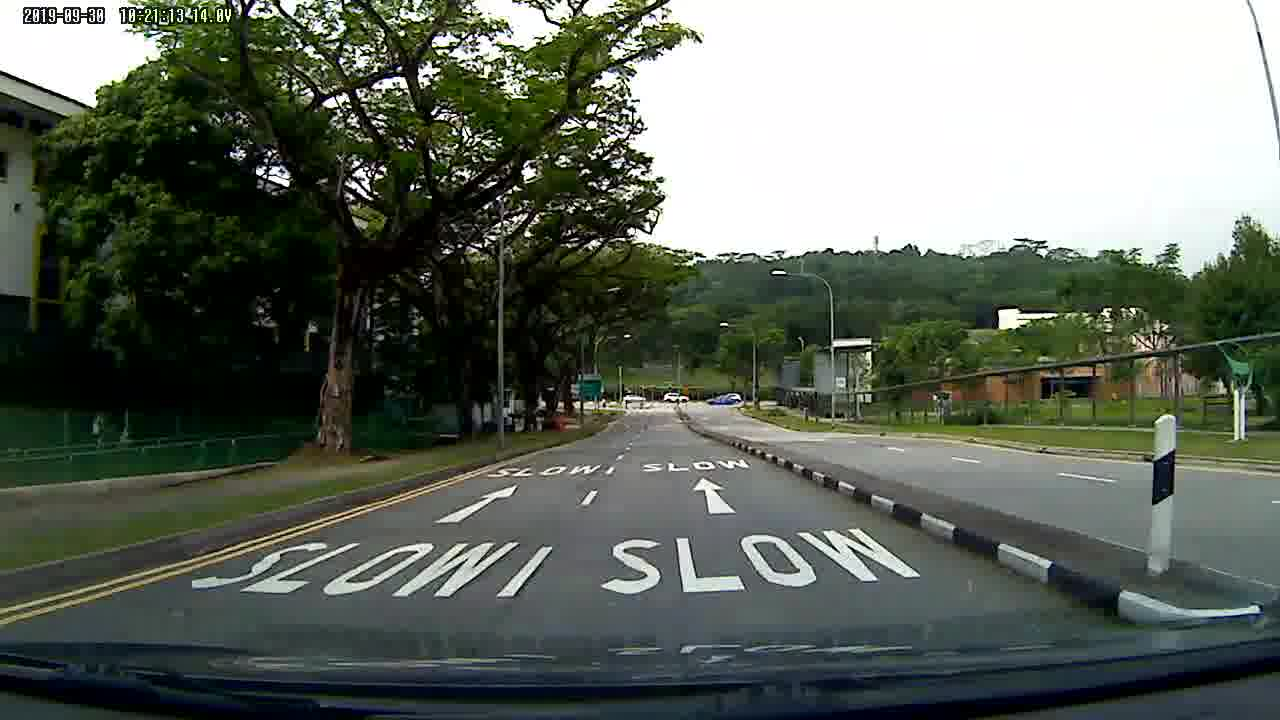car: (704, 392, 738, 408), (663, 391, 691, 405), (621, 394, 648, 405)
